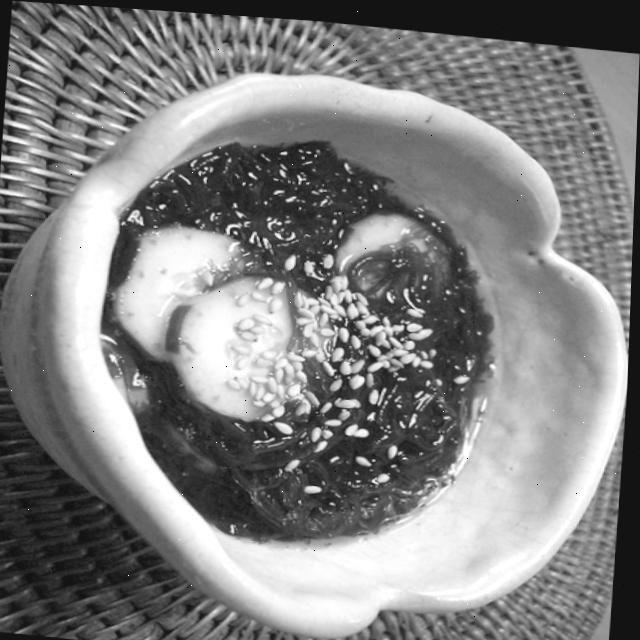蔬菜料理: (10, 49, 618, 624)
